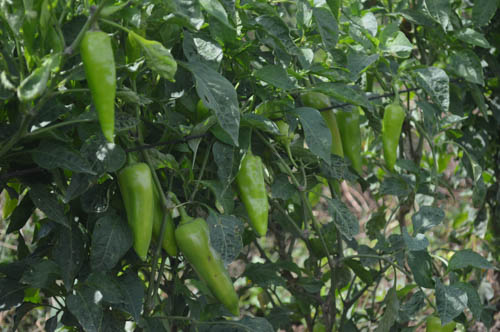ChiliPepper: (174, 218, 233, 313), (81, 36, 120, 137), (120, 163, 154, 257), (235, 155, 268, 238), (378, 100, 408, 172), (340, 109, 362, 178), (315, 98, 340, 156), (153, 203, 176, 260)
